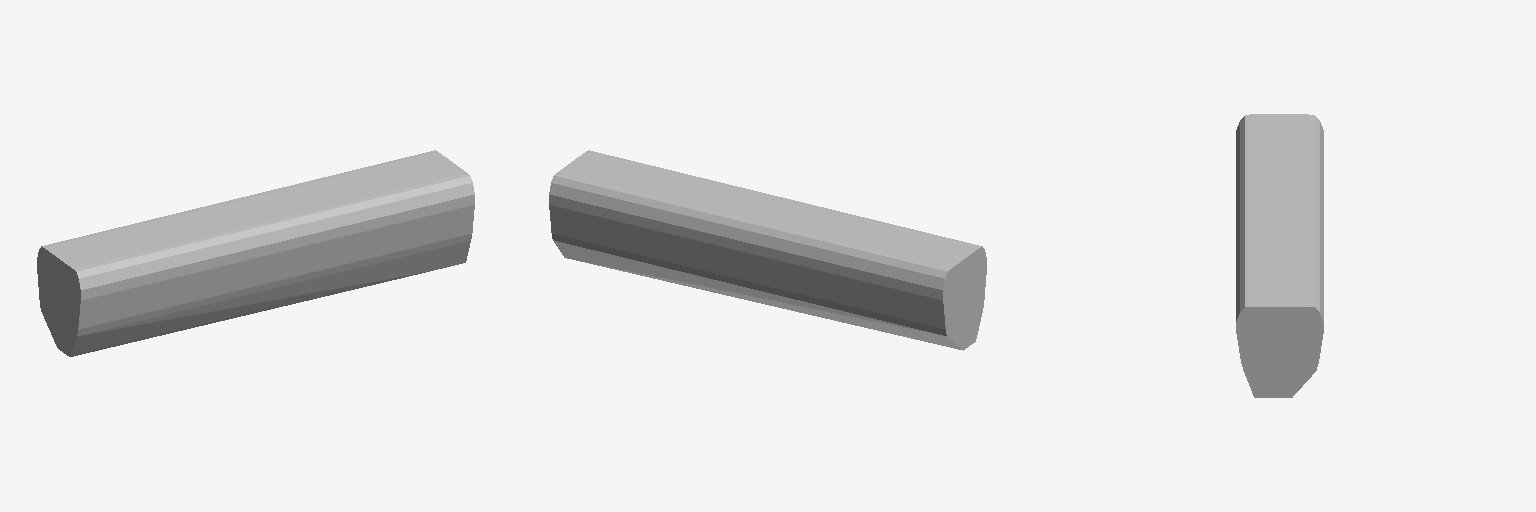
The model's file is Window_Slider_48x36_collision_6.obj.
3 renders of one model, left to right at view 1: azimuth 30°, elevation 25°; view 2: azimuth 150°, elevation 25°; view 3: azimuth 270°, elevation 25°, orthographic.
Size of the model in its own units: 0.4919 by 0.1082 by 0.0947.